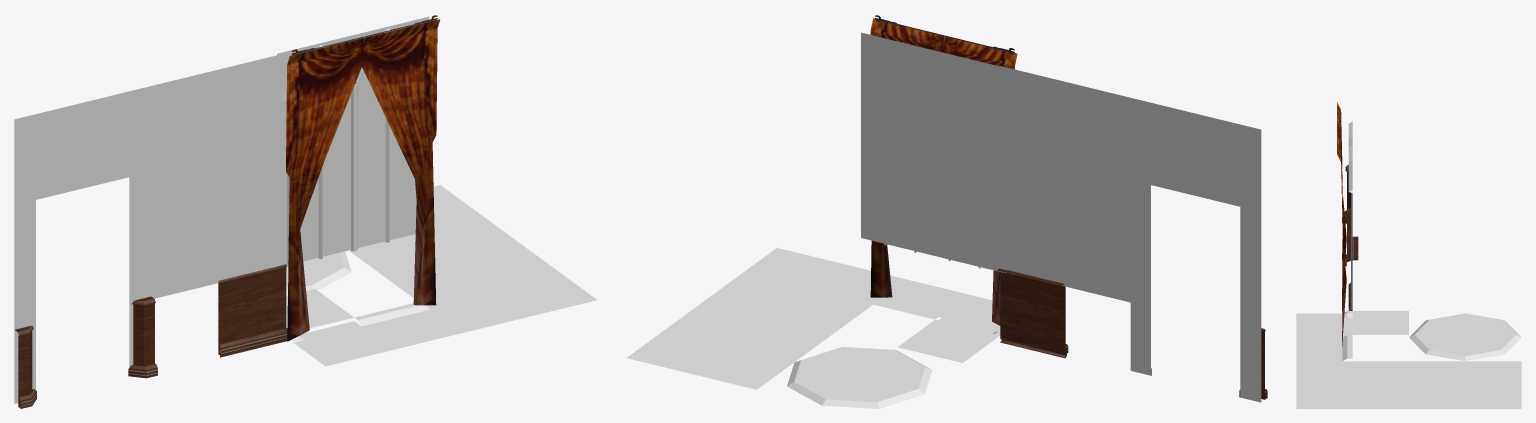
File: AssetsMiscelaneos.fbx
3 views of the same model, side by side, from view 1: azimuth 30°, elevation 25°; view 2: azimuth 150°, elevation 25°; view 3: azimuth 270°, elevation 25° (orthographic). The views are drawn at different scales.
Parts seen in each view (by area): view 1: Cortina, ParedeCorredorPorta, ParedeCorredor, JanelaQuartoVidro, ParedeCorredorMetade, ChaoTerra, TetoConcreto, PainelCorredor, TetoQuartoLado, MolduraJanelaQuarto, TetoQuartoCanto, TetoConcreto.001 (+2 smaller); view 2: JanelaQuartoVidro, ParedeCorredorPorta, ParedeCorredor, TetoConcreto, ChaoTerra, ParedeCorredorMetade, TetoConcreto.001, MolduraJanelaQuarto, PainelCorredor, Cortina, TetoQuarto, TetoQuartoLado (+1 smaller); view 3: ChaoTerra, TetoConcreto, TetoConcreto.001, TetoQuartoLado, TetoQuartoCanto, TetoQuarto, Cortina, MolduraJanelaQuarto, ParedeCorredorPorta.
Boxes of the visible parts, x1=… form: Cortina: x1=286, y1=15, x2=440, y2=341; ParedeCorredorPorta: x1=14, y1=86, x2=157, y2=408; ParedeCorredor: x1=150, y1=124, x2=286, y2=298; JanelaQuartoVidro: x1=277, y1=16, x2=429, y2=265; ParedeCorredorMetade: x1=150, y1=53, x2=286, y2=157; ChaoTerra: x1=383, y1=242, x2=596, y2=333; TetoConcreto: x1=349, y1=185, x2=518, y2=275; PainelCorredor: x1=218, y1=264, x2=286, y2=354; TetoQuartoLado: x1=354, y1=303, x2=460, y2=349; MolduraJanelaQuarto: x1=282, y1=28, x2=392, y2=266; TetoQuartoCanto: x1=292, y1=321, x2=393, y2=366; TetoConcreto.001: x1=286, y1=251, x2=351, y2=293; JanelaQuartoVidro: x1=861, y1=32, x2=1006, y2=273; ParedeCorredorPorta: x1=1130, y1=98, x2=1267, y2=402; ParedeCorredor: x1=1007, y1=136, x2=1130, y2=302; TetoConcreto: x1=627, y1=303, x2=831, y2=389; ChaoTerra: x1=702, y1=248, x2=906, y2=334; ParedeCorredorMetade: x1=1000, y1=66, x2=1130, y2=165; TetoConcreto.001: x1=787, y1=347, x2=932, y2=408; MolduraJanelaQuarto: x1=864, y1=42, x2=1000, y2=268; PainelCorredor: x1=997, y1=268, x2=1065, y2=354; Cortina: x1=870, y1=15, x2=1017, y2=325; TetoQuarto: x1=898, y1=319, x2=999, y2=362; TetoQuartoLado: x1=870, y1=279, x2=972, y2=319; ChaoTerra: x1=1296, y1=361, x2=1408, y2=408; TetoConcreto: x1=1409, y1=361, x2=1521, y2=408; TetoConcreto.001: x1=1409, y1=313, x2=1521, y2=361; TetoQuartoLado: x1=1296, y1=335, x2=1352, y2=361; TetoQuartoCanto: x1=1296, y1=311, x2=1352, y2=337; TetoQuarto: x1=1352, y1=311, x2=1408, y2=334; Cortina: x1=1337, y1=102, x2=1346, y2=346; MolduraJanelaQuarto: x1=1348, y1=121, x2=1352, y2=309; ParedeCorredorPorta: x1=1344, y1=165, x2=1350, y2=266.
Size of the model in its own units: 8 by 4.22 by 4.
